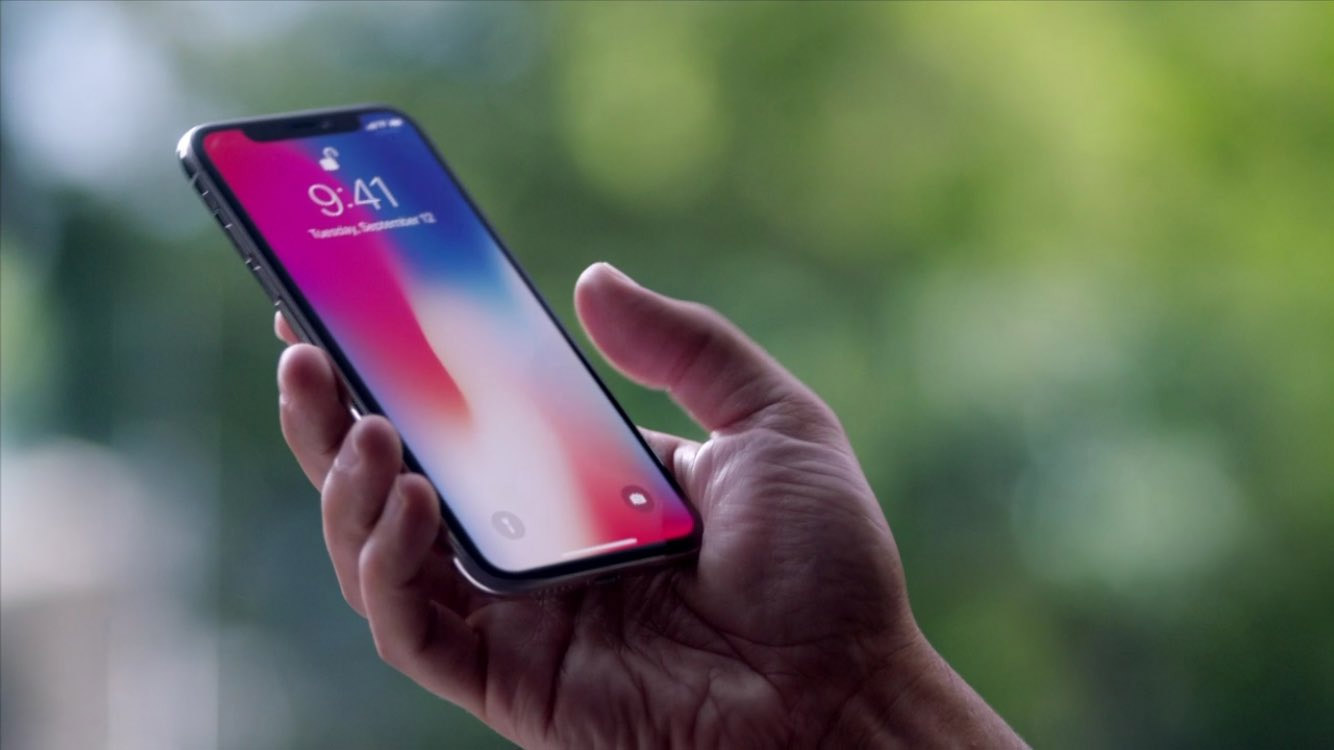smartphone: (177, 104, 707, 601)
